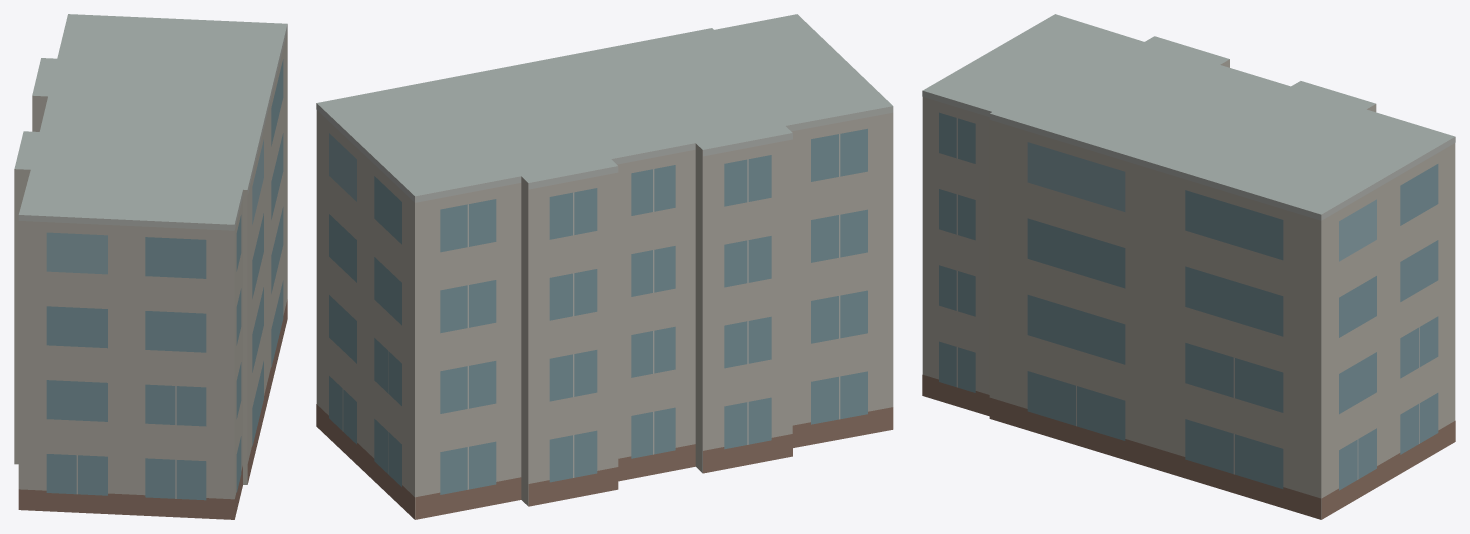
Rendered from survey-upis-32622156.glb.
3 views of the same model, side by side, from view 1: azimuth 30°, elevation 25°; view 2: azimuth 150°, elevation 25°; view 3: azimuth 270°, elevation 25° (orthographic). The views are drawn at different scales.
Visible parts, largest first — view 1: survey-upis-32622156.tmp; view 2: survey-upis-32622156.tmp; view 3: survey-upis-32622156.tmp.
Boxes of the visible parts, x1,y1,x2,y2 form: survey-upis-32622156.tmp: [14, 14, 287, 519]; survey-upis-32622156.tmp: [316, 14, 893, 519]; survey-upis-32622156.tmp: [922, 14, 1455, 519].
Size of the model in its own units: 17.07 by 12.1 by 19.16.
